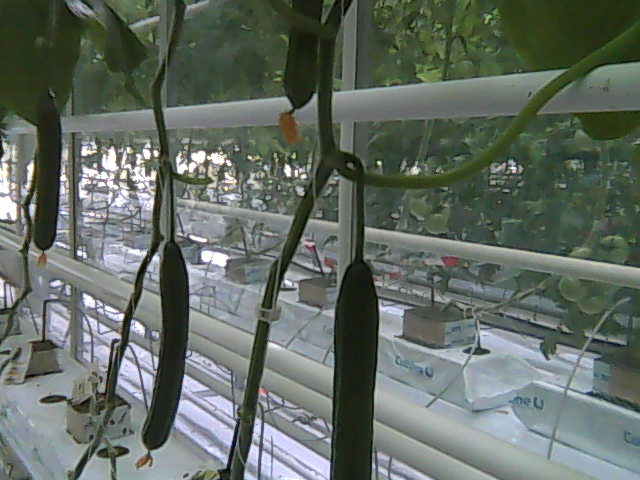concombre: (136, 232, 193, 471), (326, 253, 385, 480), (30, 87, 66, 269), (277, 1, 324, 140)
